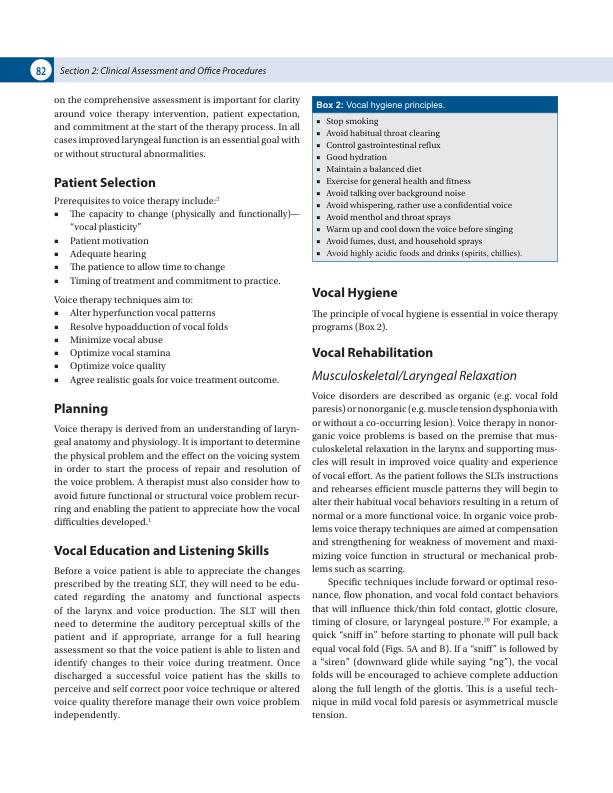caption: (316, 100, 446, 112)
header: (59, 66, 266, 76)
list: (315, 117, 523, 259), (53, 209, 301, 287), (52, 308, 280, 387)
sub-section-heading: (53, 544, 270, 559), (311, 369, 518, 384), (311, 346, 433, 358), (311, 286, 399, 301), (53, 176, 156, 188), (54, 402, 109, 417)
text: (311, 391, 559, 709), (53, 566, 300, 721), (53, 423, 300, 529), (53, 95, 301, 158), (311, 309, 559, 334), (53, 197, 219, 207), (54, 295, 194, 306)
